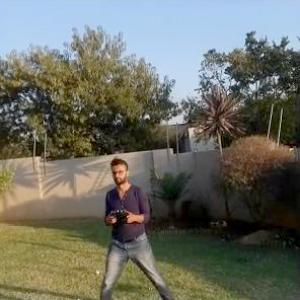follow: (100, 155, 174, 299)
